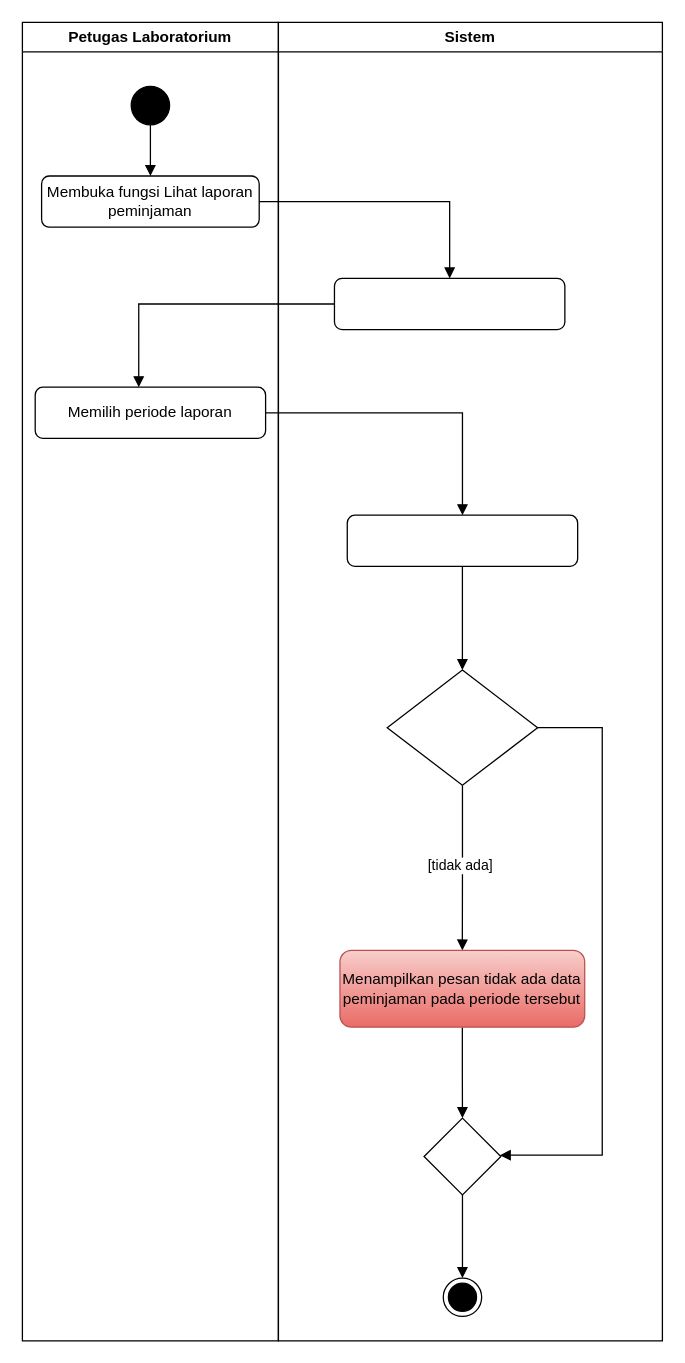
The diagram is 685 pixels wide and 1363 high, and some of its shapes have lost their labels. The shapes that lost their labels are listed below. From the top down, each one's box as (x1, y1, x2, y2) in pixels, then its label:
(333, 277, 565, 330): Menampilkan daftar periode laporan
(346, 514, 578, 566): Menampilkan laporan peminjaman periode yang dipilih
(386, 669, 538, 785): ada data peminjaman?
